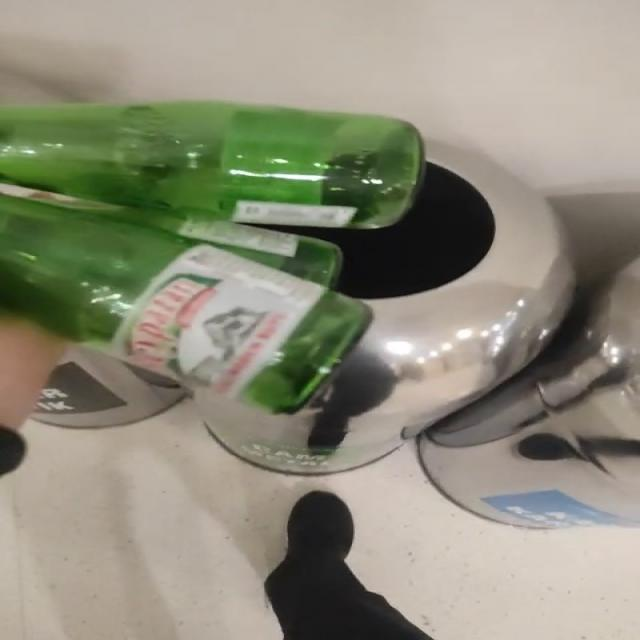glass: (3, 101, 424, 412)
